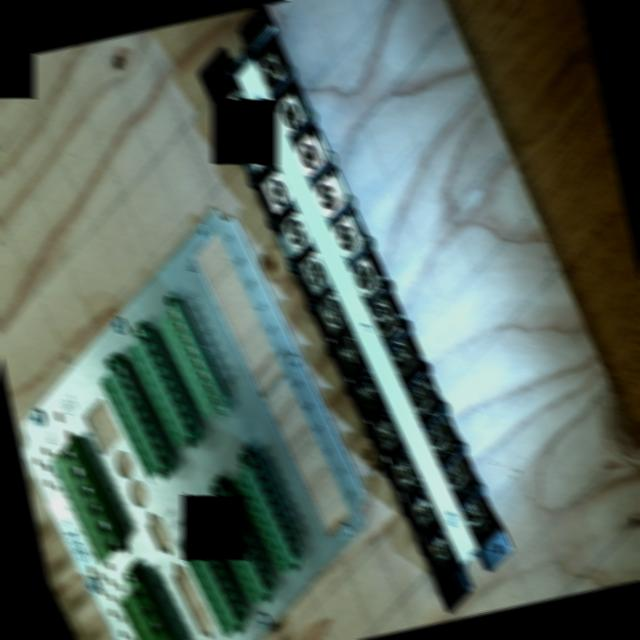Phillips_Block: (183, 3, 530, 612)
Terminal_1: (45, 441, 126, 566), (114, 578, 173, 640)
Terminal_2: (121, 329, 202, 448), (95, 360, 175, 480), (171, 519, 252, 637), (228, 454, 307, 574), (200, 487, 279, 606)
